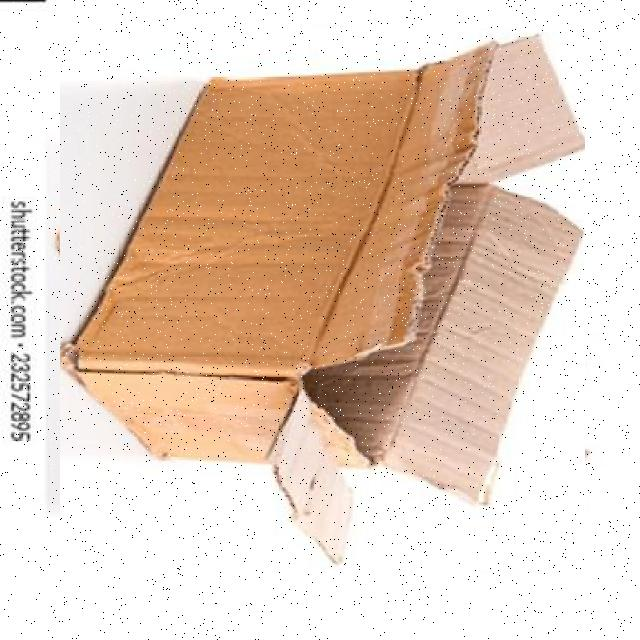defect: (60, 28, 585, 570)
